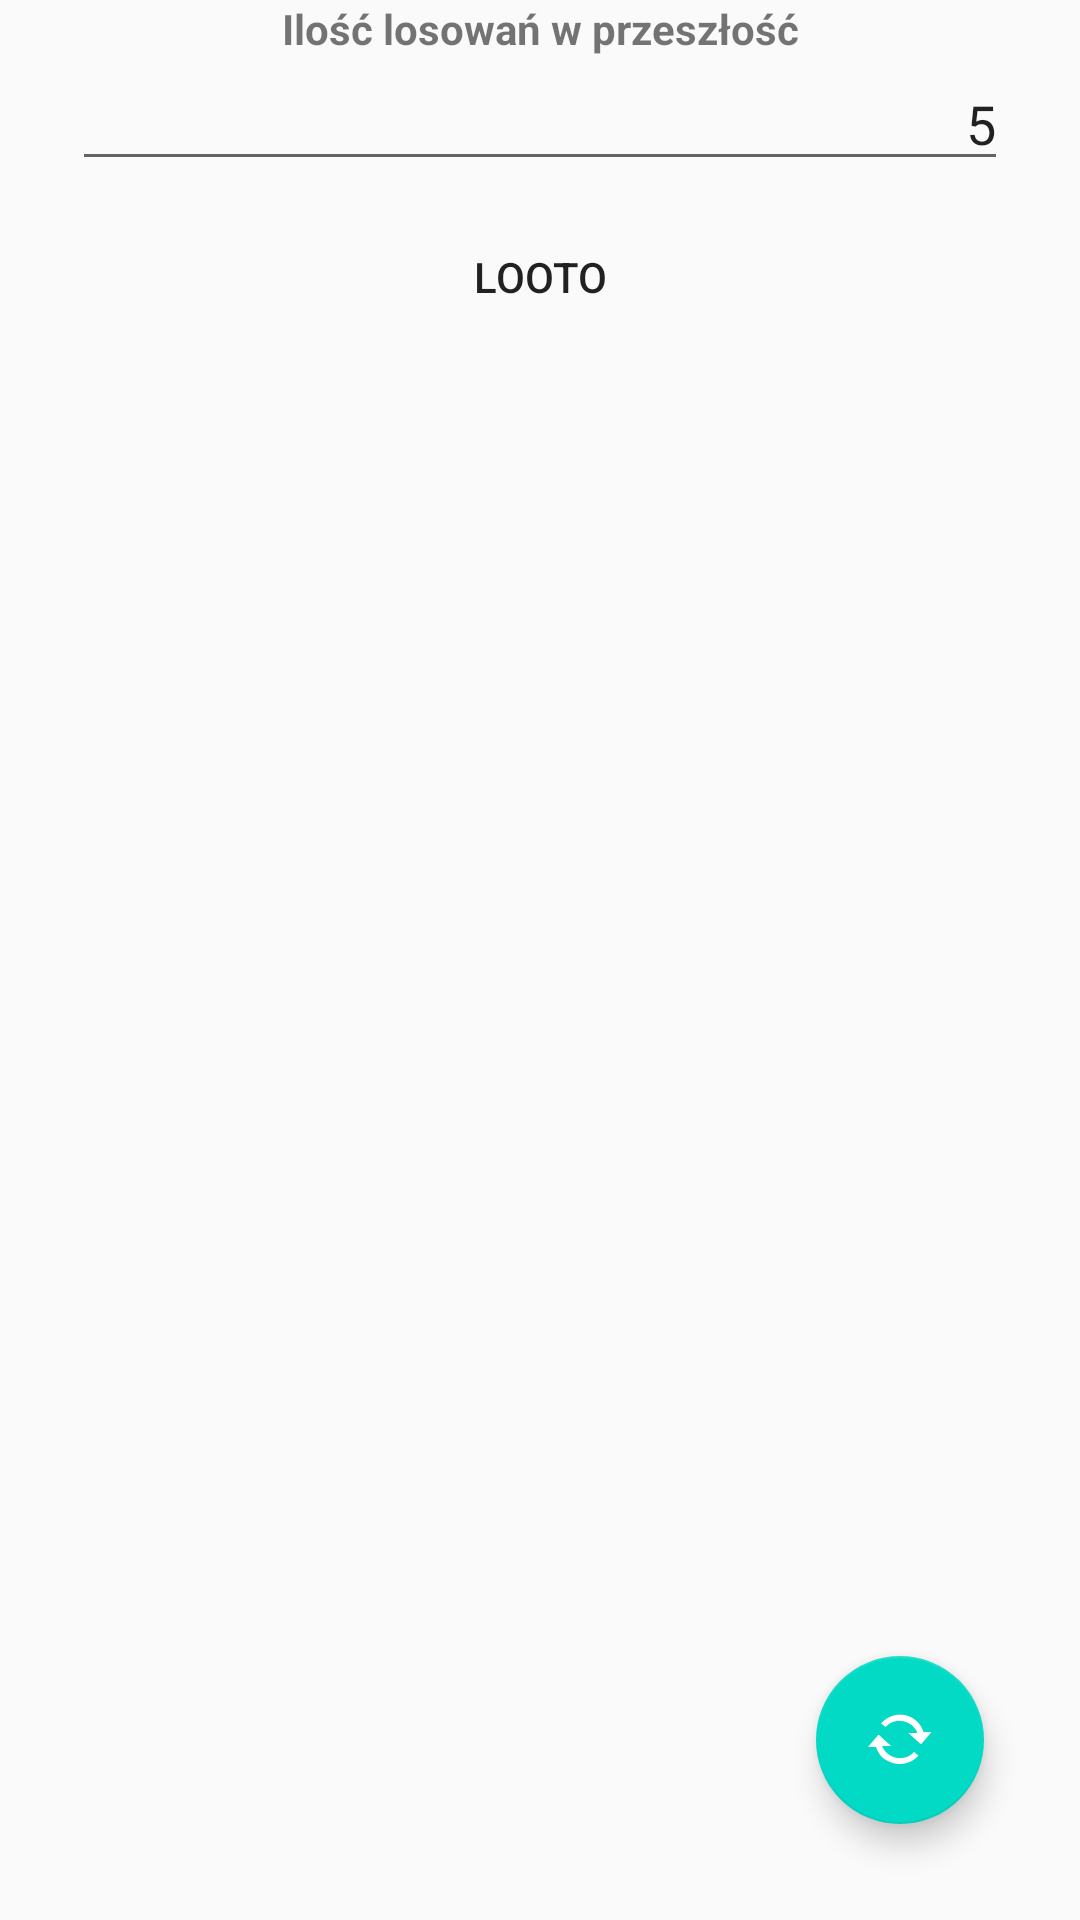

Screen size 1080 x 1920. Icon name, then its box in pixels as (x1, y1, x2, y2):
sync: (816, 1656, 984, 1824)
